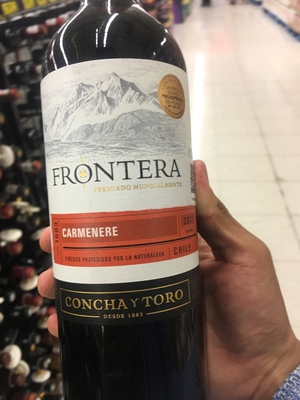frontera carmenere: (34, 11, 218, 375)
